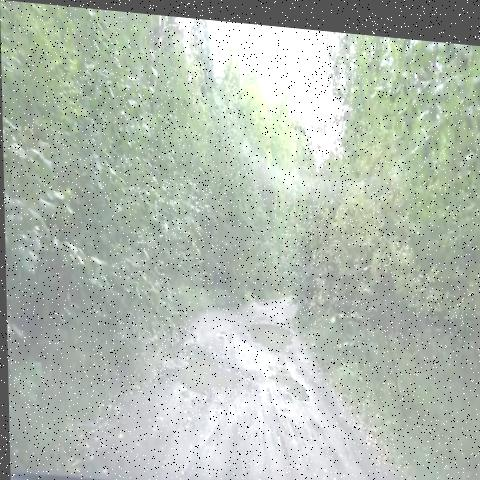pothole: (156, 326, 250, 409), (239, 298, 298, 361), (259, 352, 314, 406)
